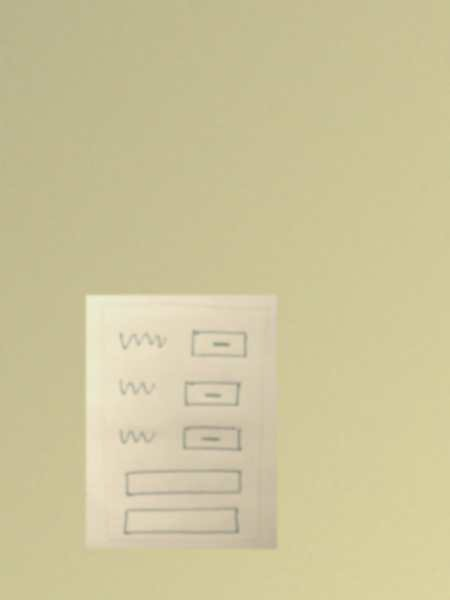button: (185, 326, 251, 363), (182, 423, 246, 457), (182, 378, 243, 410)
text: (120, 327, 169, 354), (118, 423, 157, 451), (116, 377, 156, 401)
text_input: (122, 467, 244, 500), (122, 507, 240, 536)
